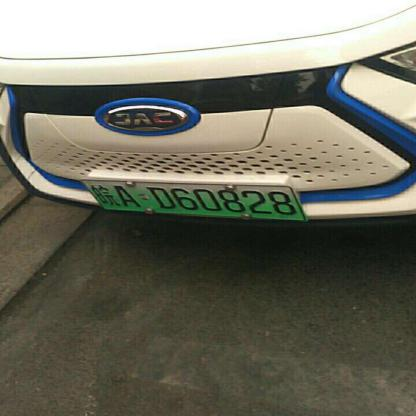lp: (82, 180, 304, 218)
